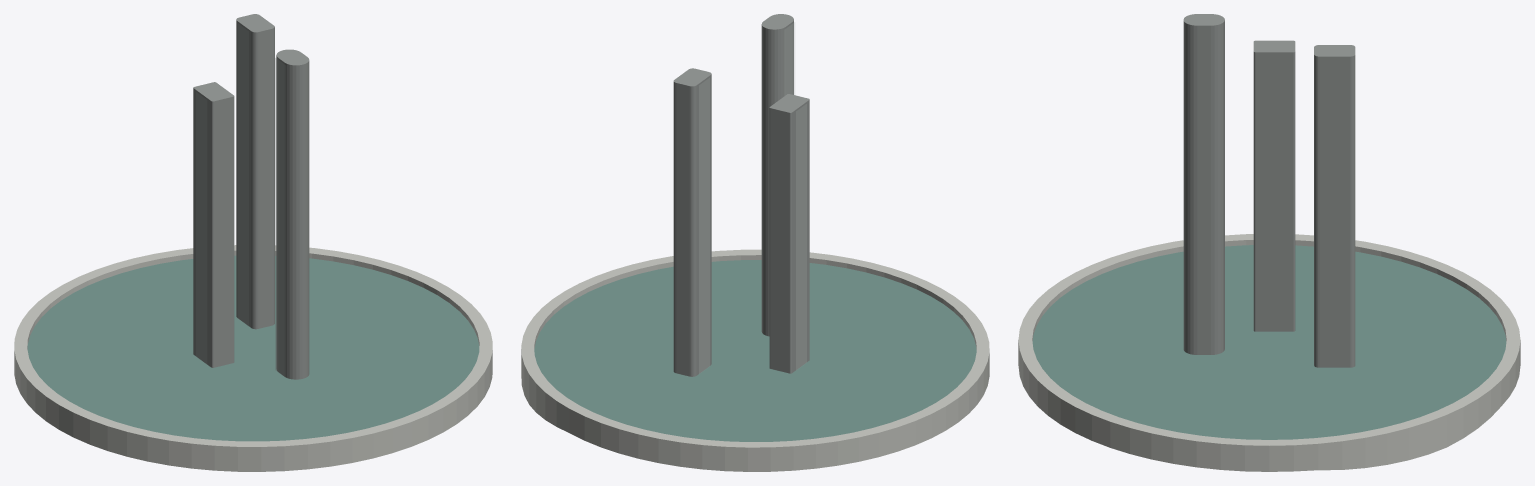
The picture shows the model from 3 angles, left to right: view 1: azimuth 30°, elevation 25°; view 2: azimuth 150°, elevation 25°; view 3: azimuth 270°, elevation 25°; orthographic projection. The views are drawn at different scales.
Visible parts, largest first — view 1: central-symbol-basin-water, central-symbol-basin-rim, central-symbol-column-north, central-symbol-column-middle, central-symbol-column-south, central-symbol-water-south, central-symbol-water-north, central-symbol-water-middle; view 2: central-symbol-basin-water, central-symbol-basin-rim, central-symbol-column-north, central-symbol-column-middle, central-symbol-column-south, central-symbol-water-north, central-symbol-water-middle, central-symbol-water-south; view 3: central-symbol-basin-water, central-symbol-basin-rim, central-symbol-column-south, central-symbol-column-north, central-symbol-column-middle.
Boxes of the visible parts, bbox=[...] form: central-symbol-basin-water: bbox=[27, 255, 479, 441]; central-symbol-basin-rim: bbox=[14, 245, 492, 471]; central-symbol-column-north: bbox=[236, 14, 274, 329]; central-symbol-column-middle: bbox=[193, 82, 234, 367]; central-symbol-column-south: bbox=[276, 49, 309, 379]; central-symbol-water-south: bbox=[275, 58, 285, 377]; central-symbol-water-north: bbox=[238, 24, 248, 325]; central-symbol-water-middle: bbox=[196, 92, 206, 363]; central-symbol-basin-water: bbox=[534, 260, 976, 441]; central-symbol-basin-rim: bbox=[521, 249, 989, 471]; central-symbol-column-north: bbox=[673, 68, 711, 376]; central-symbol-column-middle: bbox=[769, 94, 809, 373]; central-symbol-column-south: bbox=[761, 14, 793, 336]; central-symbol-water-north: bbox=[699, 78, 709, 373]; central-symbol-water-middle: bbox=[796, 104, 806, 369]; central-symbol-water-south: bbox=[784, 22, 794, 95]; central-symbol-basin-water: bbox=[1032, 245, 1506, 439]; central-symbol-basin-rim: bbox=[1018, 234, 1520, 471]; central-symbol-column-south: bbox=[1183, 14, 1224, 354]; central-symbol-column-north: bbox=[1314, 45, 1355, 367]; central-symbol-column-middle: bbox=[1253, 40, 1295, 331].
Size of the model in its own units: 20 by 15.69 by 20.
